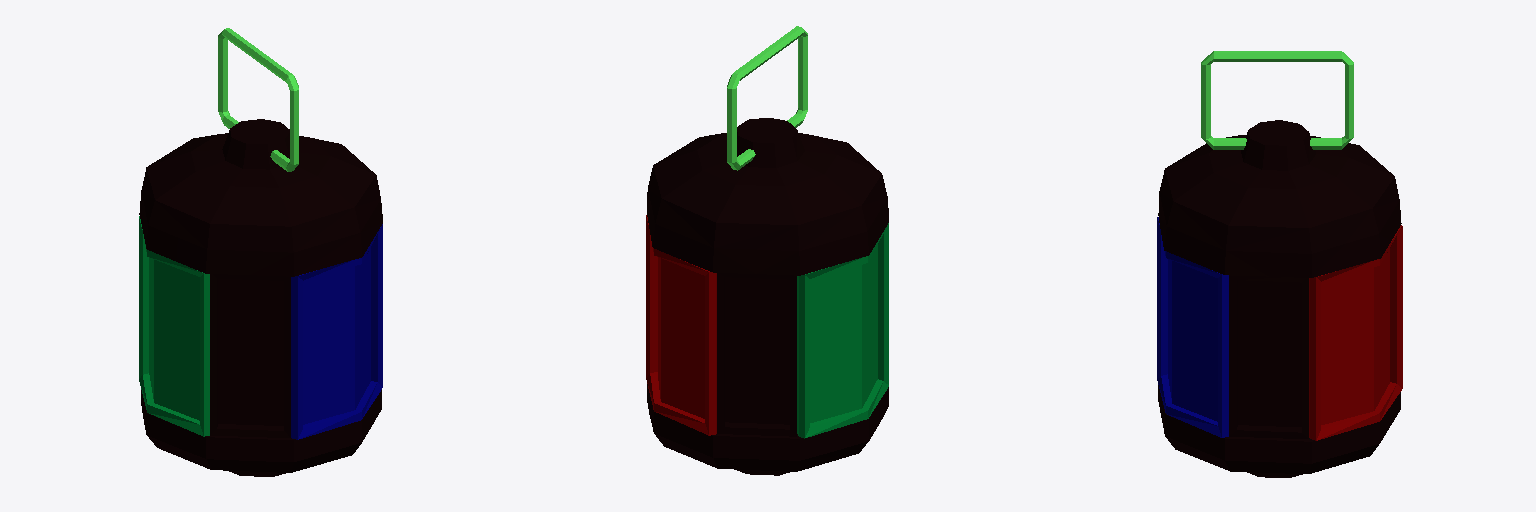
The model's file is lantern.obj.
The picture shows the model from 3 angles: view 1: azimuth 30°, elevation 25°; view 2: azimuth 150°, elevation 25°; view 3: azimuth 270°, elevation 25°; orthographic projection.
Parts seen in each view (by area): view 1: lamp, blue, separators, green, Cylinder001; view 2: lamp, green, separators, red, Cylinder001; view 3: lamp, red, separators, blue, Cylinder001.
Boxes of the visible parts, box(x1,y1,x2,y2) form: lamp: box(139, 119, 382, 475); blue: box(291, 224, 382, 439); separators: box(210, 274, 290, 437); green: box(139, 216, 209, 436); Cylinder001: box(218, 28, 298, 171); lamp: box(647, 118, 888, 473); green: box(797, 223, 888, 438); separators: box(717, 273, 796, 436); red: box(646, 215, 716, 435); Cylinder001: box(727, 26, 807, 170); lamp: box(1158, 120, 1401, 476); red: box(1309, 225, 1402, 440); separators: box(1229, 276, 1308, 438); blue: box(1157, 217, 1228, 437); Cylinder001: box(1201, 51, 1353, 149).
Bounding box in the file's own units: 0.026 × 0.0483 × 0.0262.